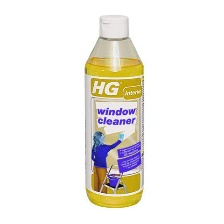cleaning_solution: (82, 12, 148, 210)
